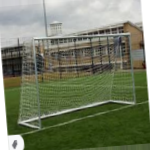goals: (17, 32, 138, 129)
